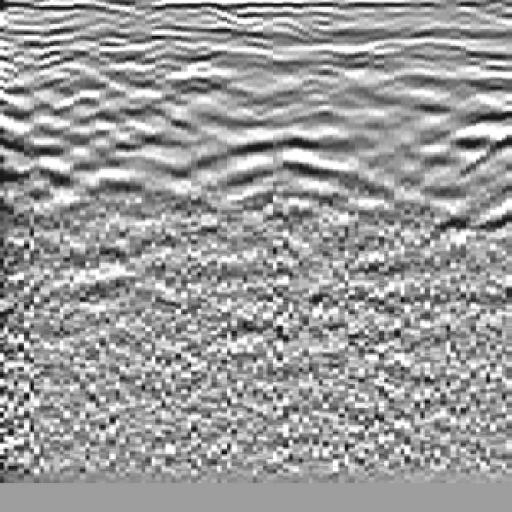metalic: (189, 43, 368, 279)
nonmetalic: (400, 40, 512, 305)
